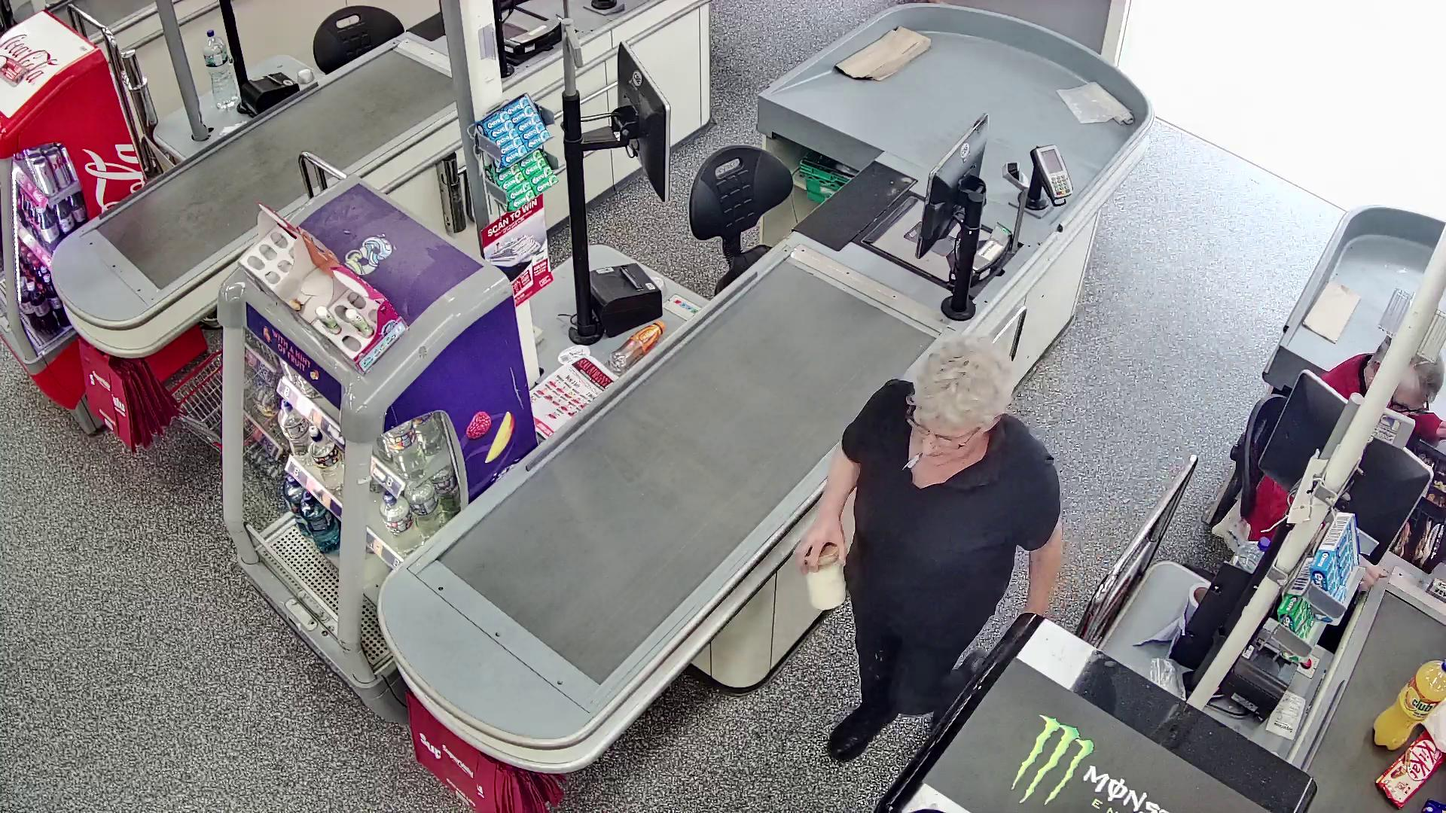carrying-item: (798, 538, 850, 614)
occupied-checkout-counter: (1211, 321, 1446, 723)
person: (808, 333, 1063, 763)
person-with-carrying-item: (798, 331, 1062, 763)
vacant-checkout-counter: (515, 8, 1075, 364), (210, 0, 576, 130)
